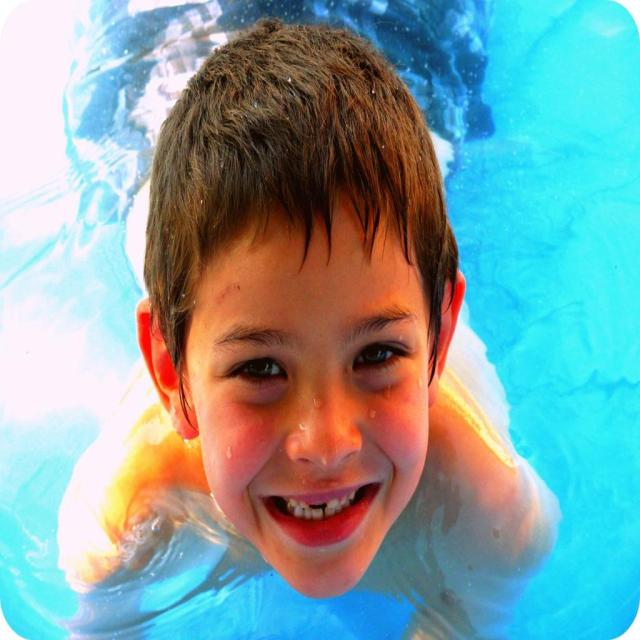Face: (151, 138, 467, 615)
